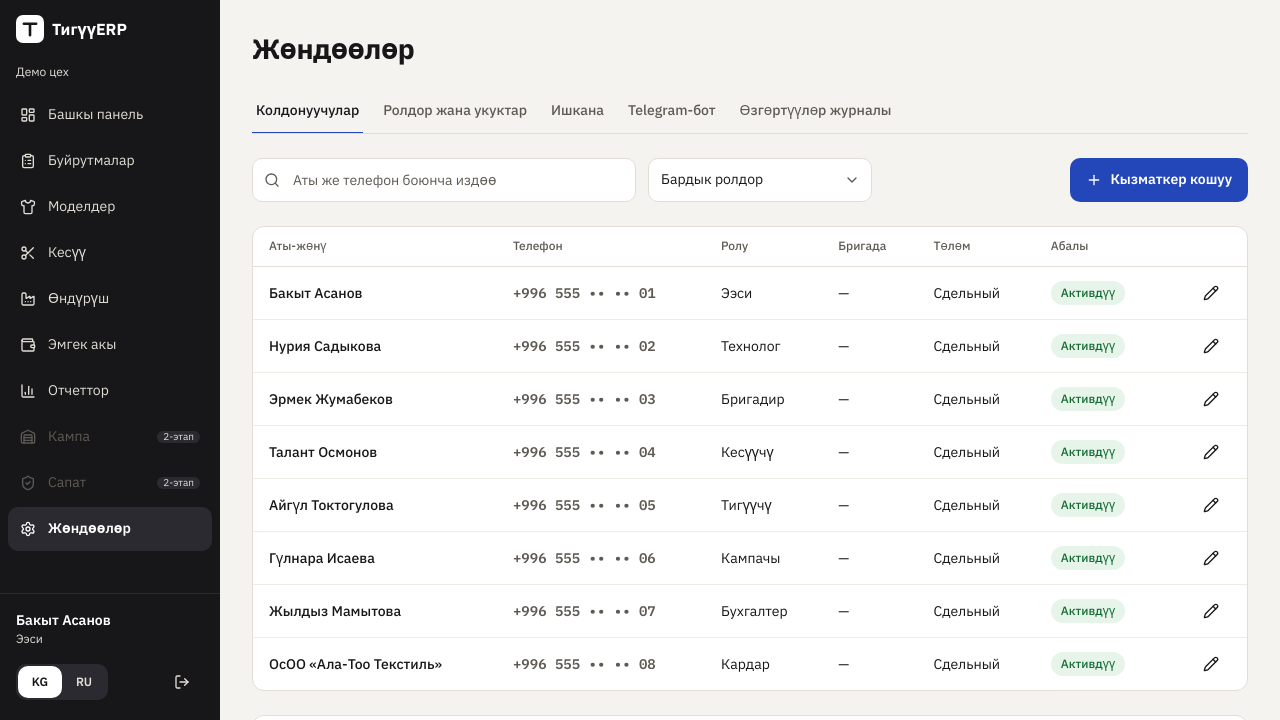
Test case: settings (2.10) › shows the server error when the owner tries to deactivate themselves
What coordinates should you click on to do the following:
click the button named "Бакыт Асанов: өзгөртүү"
I would click on:
 (1211, 293)
Its box is [1191,275,1231,311].
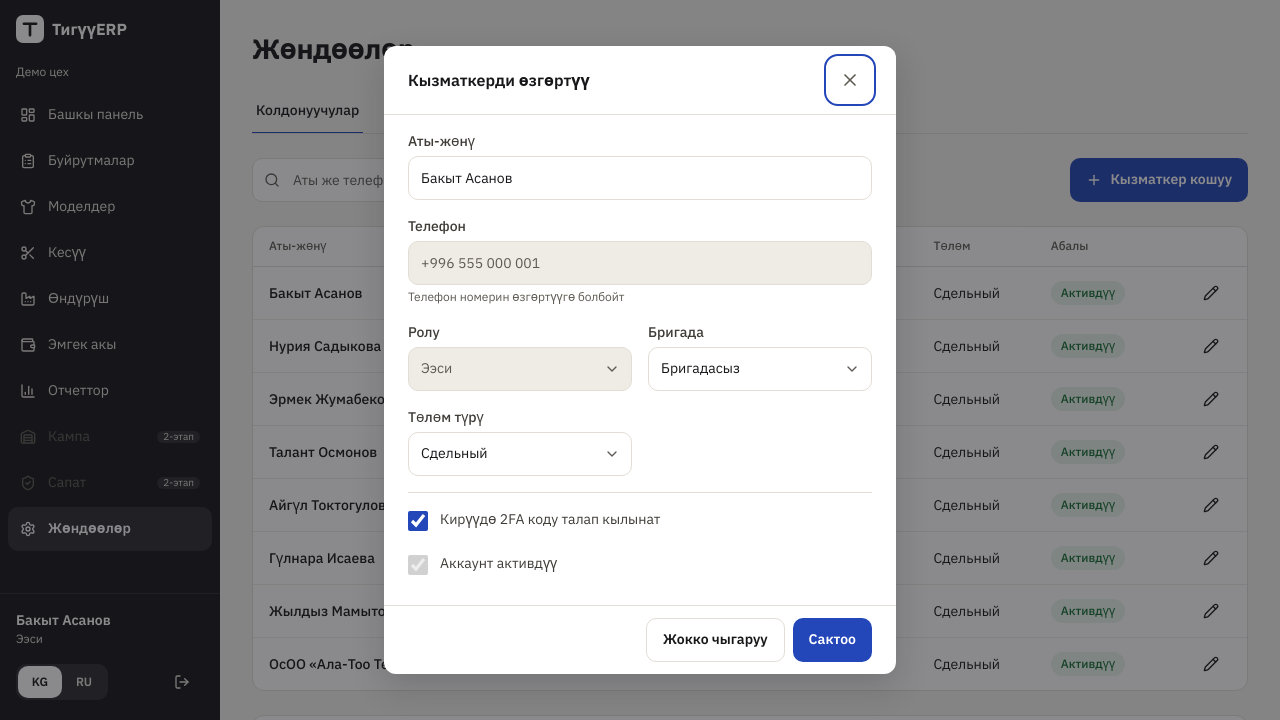
Result: the checkbox labelled "Аккаунт активдүү" is disabled at [408,555,428,575]
Result: the dropdown labelled "Ролу" is disabled at [408,347,632,391]
